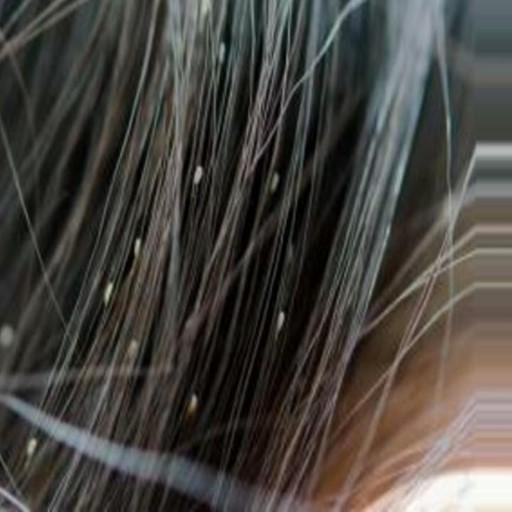Head_Lice: (22, 433, 52, 459), (126, 233, 147, 260), (103, 275, 117, 313), (268, 166, 284, 198), (186, 393, 205, 418), (275, 305, 287, 342), (190, 166, 208, 189), (213, 39, 227, 65)
